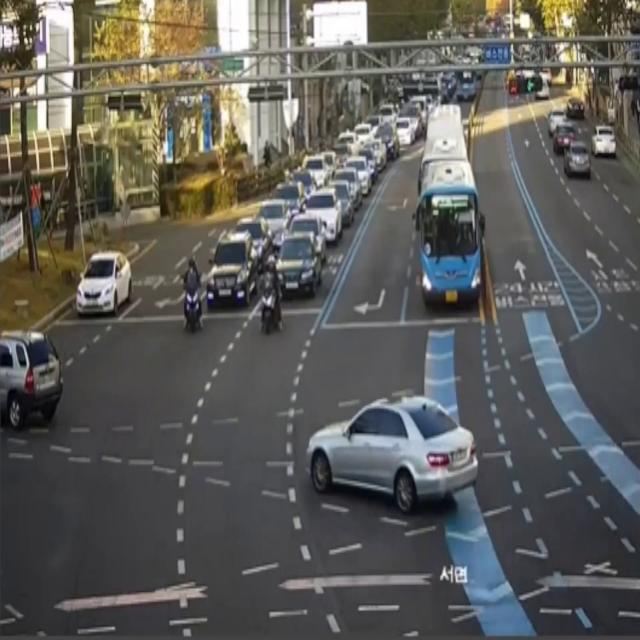bus: (254, 248, 287, 341), (178, 247, 208, 330)
car: (411, 146, 486, 320)
motorcycle: (296, 362, 493, 540), (0, 304, 62, 450), (66, 240, 136, 325), (204, 223, 259, 310), (274, 222, 320, 304), (562, 129, 594, 184), (590, 114, 618, 160)
